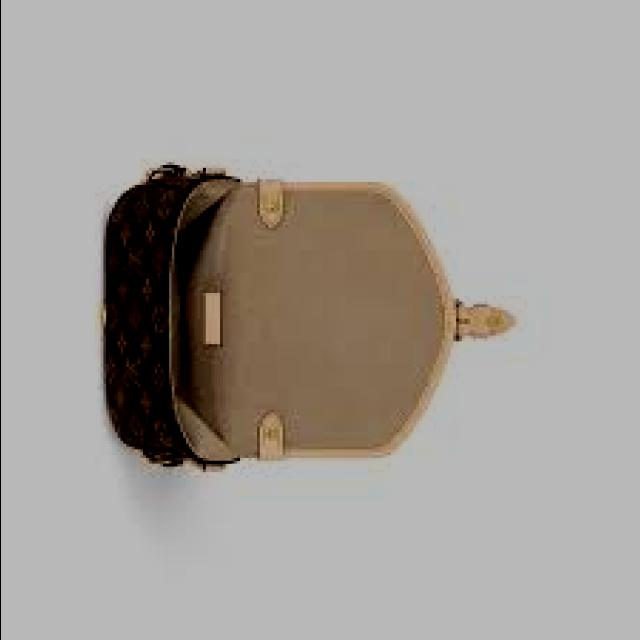backpack: (103, 163, 519, 473)
